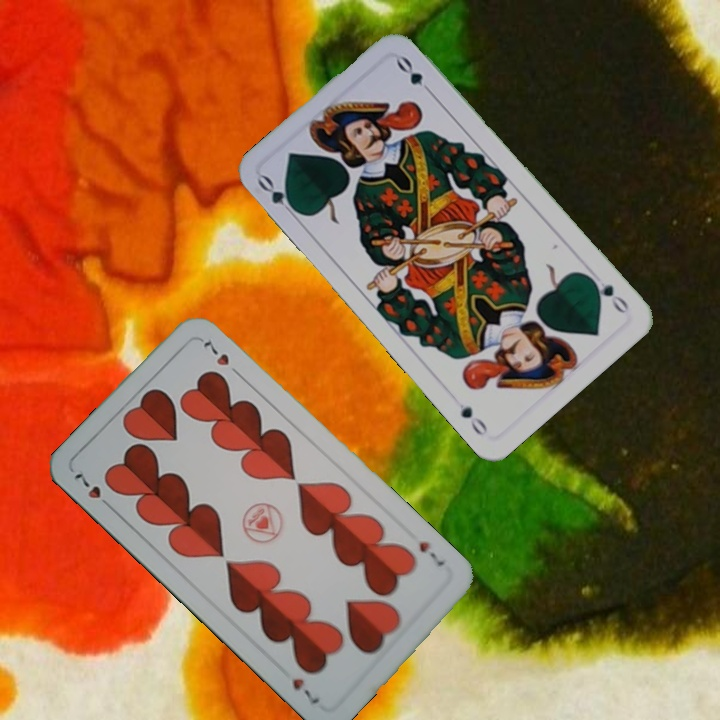GO: (253, 171, 303, 221), (584, 272, 632, 316)
H7: (70, 469, 116, 512), (414, 537, 449, 570)
